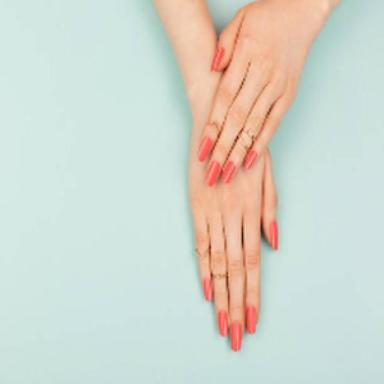normal skin: (154, 1, 277, 325), (203, 0, 339, 168)
